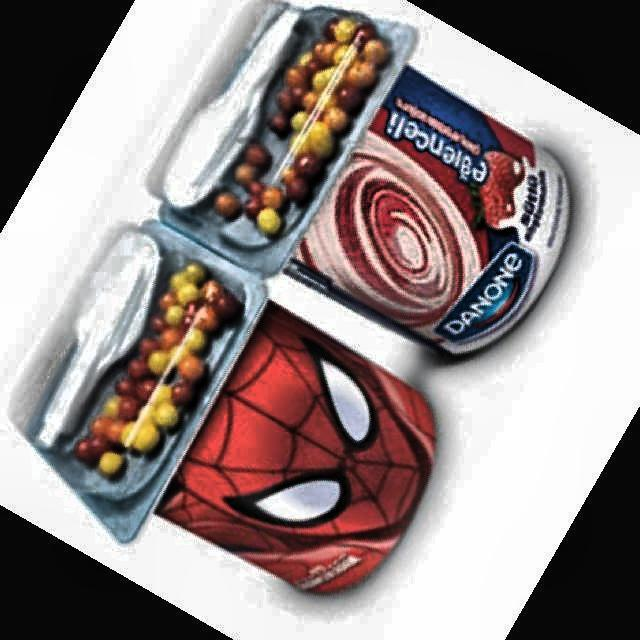plastic: (28, 221, 435, 592), (151, 2, 570, 354)
